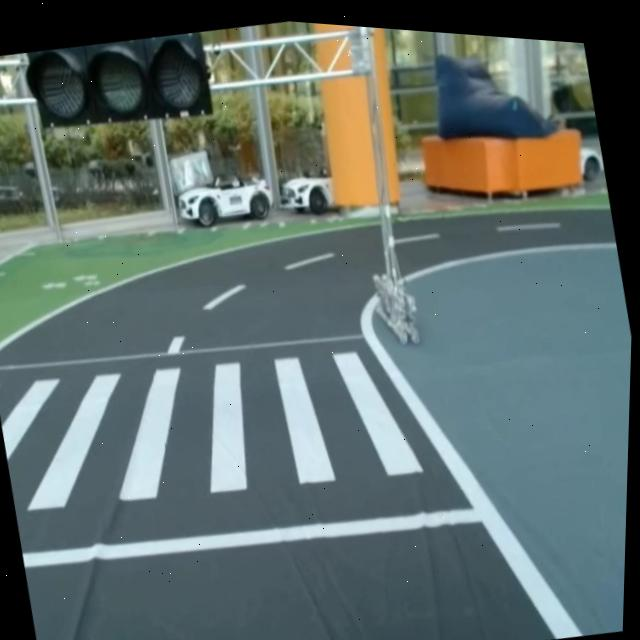traffic-light: (14, 15, 232, 150)
